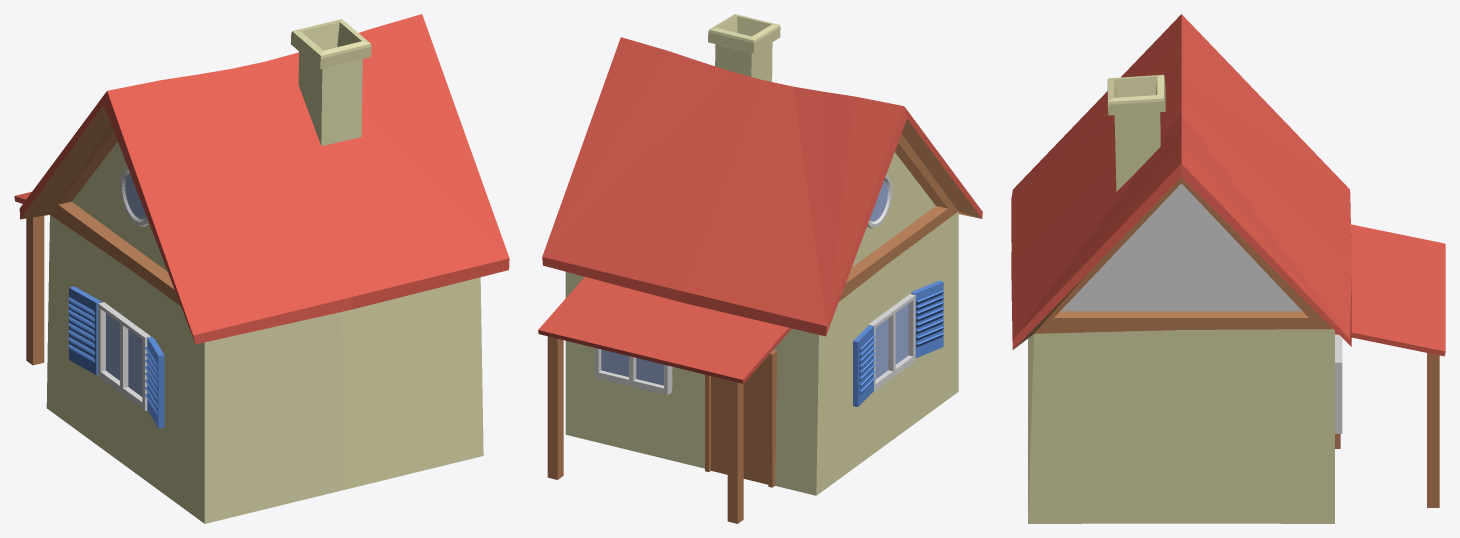
Rendered from House.fbx.
3 views of the same model, side by side, from view 1: azimuth 30°, elevation 25°; view 2: azimuth 150°, elevation 25°; view 3: azimuth 270°, elevation 25° (orthographic). The views are drawn at different scales.
Parts seen in each view (by area): view 1: House; view 2: House; view 3: House.
Boxes of the visible parts, x1,y1,x2,y2 form: House: (14, 14, 509, 523); House: (538, 14, 982, 523); House: (1011, 14, 1445, 523).
Size of the model in its own units: 283 by 340 by 339.
